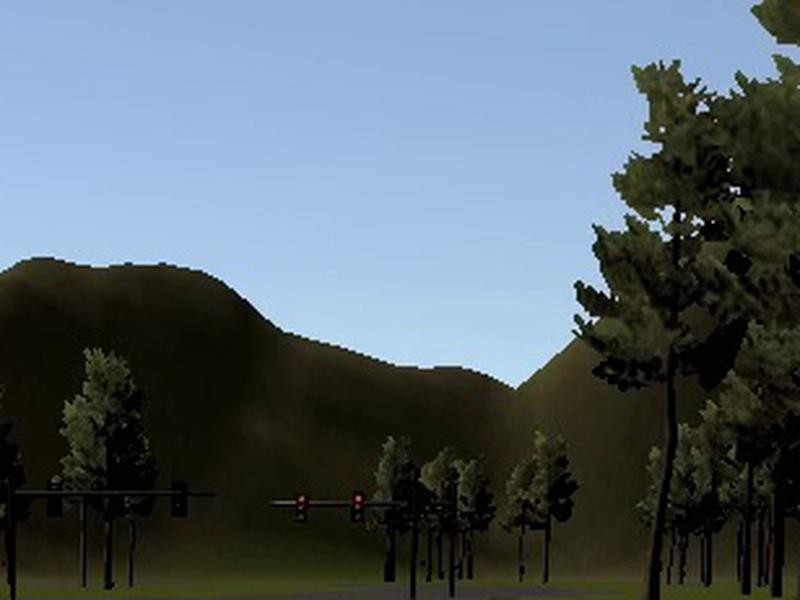Red: (295, 493, 309, 528), (352, 491, 365, 524)
